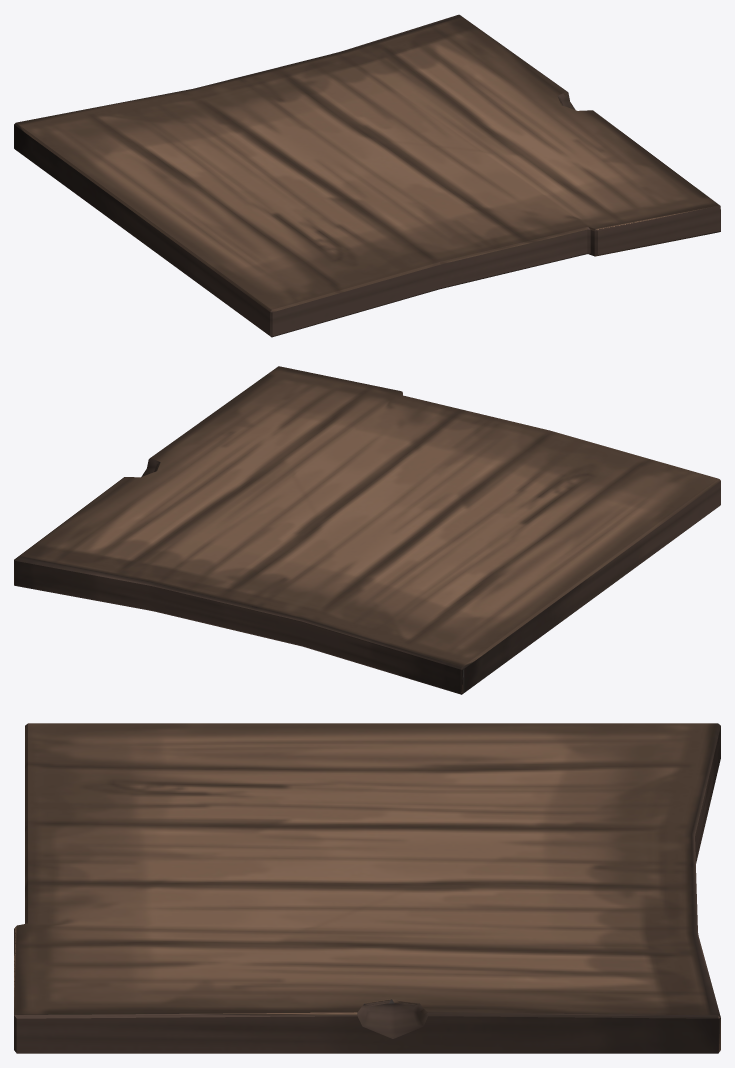
File: Z1_Wood_Platform_3.FBX
3 renders of one model, top to bottom at view 1: azimuth 30°, elevation 25°; view 2: azimuth 150°, elevation 25°; view 3: azimuth 270°, elevation 25°, orthographic. The views are drawn at different scales.
Parts seen in each view (by area): view 1: Z1_Wood_Platform_3; view 2: Z1_Wood_Platform_3; view 3: Z1_Wood_Platform_3.
Part boxes in pixels (x1,y1,x2,y2): Z1_Wood_Platform_3: (14, 14, 720, 337); Z1_Wood_Platform_3: (14, 366, 720, 694); Z1_Wood_Platform_3: (14, 723, 720, 1053).
Bounding box in the file's own units: 200 × 14.78 × 203.
